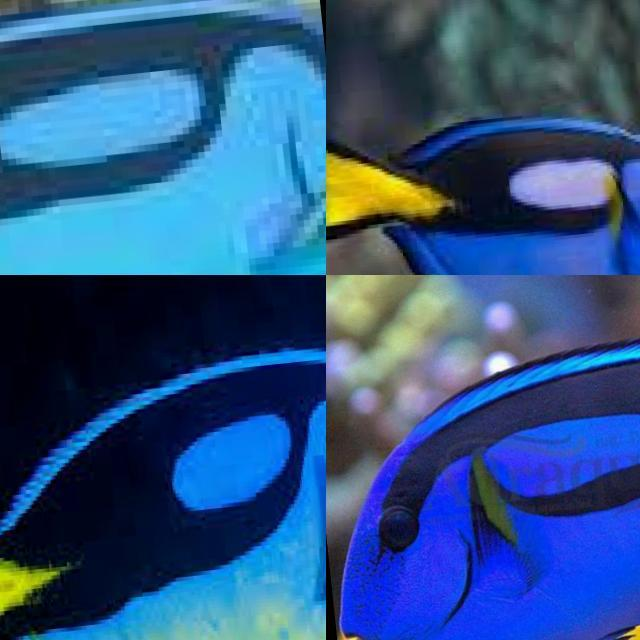BlueTang: (3, 347, 326, 640), (0, 0, 326, 275), (341, 344, 640, 640), (326, 114, 640, 275)
